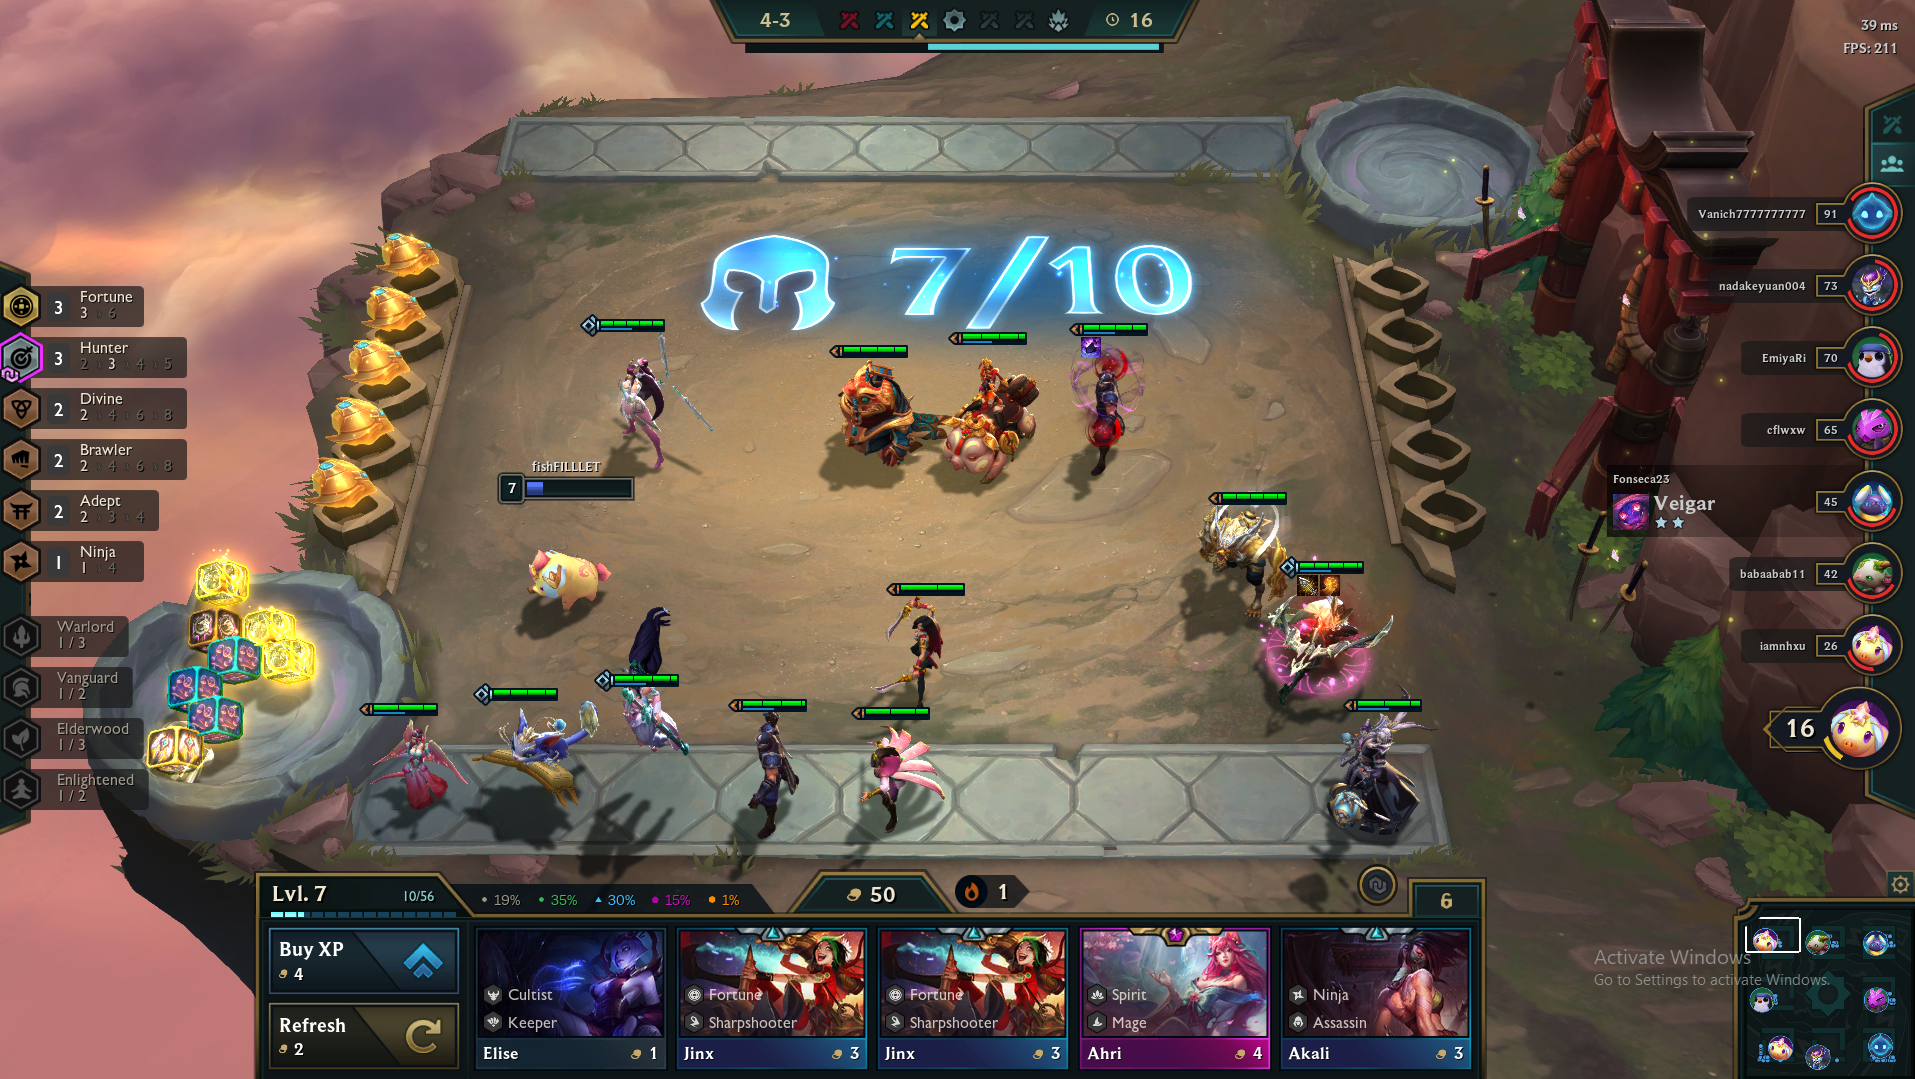1star_katarina: (856, 570, 977, 726)
1star_morgana: (345, 686, 477, 834)
1star_sejuani: (929, 317, 1051, 497)
1star_shen: (705, 688, 829, 847), (1056, 316, 1157, 489)
1star_tahmkench: (809, 336, 959, 488)
1star_talon: (838, 695, 959, 841)
1star_thresh: (1303, 688, 1438, 857)
1star_warwick: (1178, 479, 1306, 632)
2star_ashe: (1253, 550, 1403, 709)
2star_ashe_chosen: (1252, 547, 1401, 707)
2star_irelia: (564, 307, 729, 479)
2star_janna: (589, 586, 704, 793)
2star_yuumi: (466, 678, 616, 822)
item_hoj: (1317, 568, 1343, 596)
item_ie: (1296, 570, 1321, 597)
item_zzrot: (1079, 332, 1105, 358)
trait_adept2: (1, 482, 195, 537)
trait_brawler2: (1, 429, 195, 486)
trait_divine2: (1, 382, 195, 437)
trait_elderwood1: (1, 707, 195, 763)
trait_enlightened1: (1, 759, 195, 815)
trait_fortune3: (1, 275, 195, 332)
trait_hunter3: (1, 330, 195, 386)
trait_hunter_chosen: (1, 332, 49, 383)
trait_ninja1: (1, 532, 195, 588)
trait_vanguard1: (1, 658, 195, 715)
trait_warlord1: (1, 605, 195, 661)
